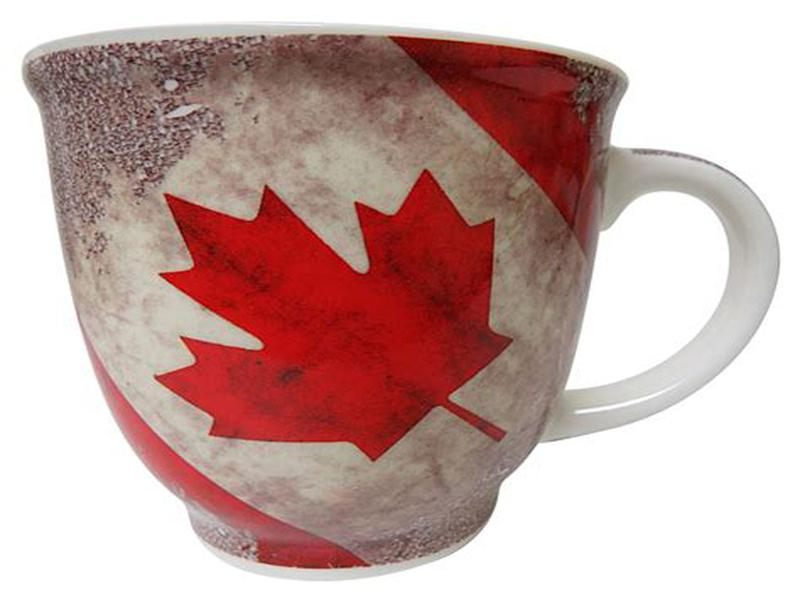cup: (16, 19, 785, 600)
